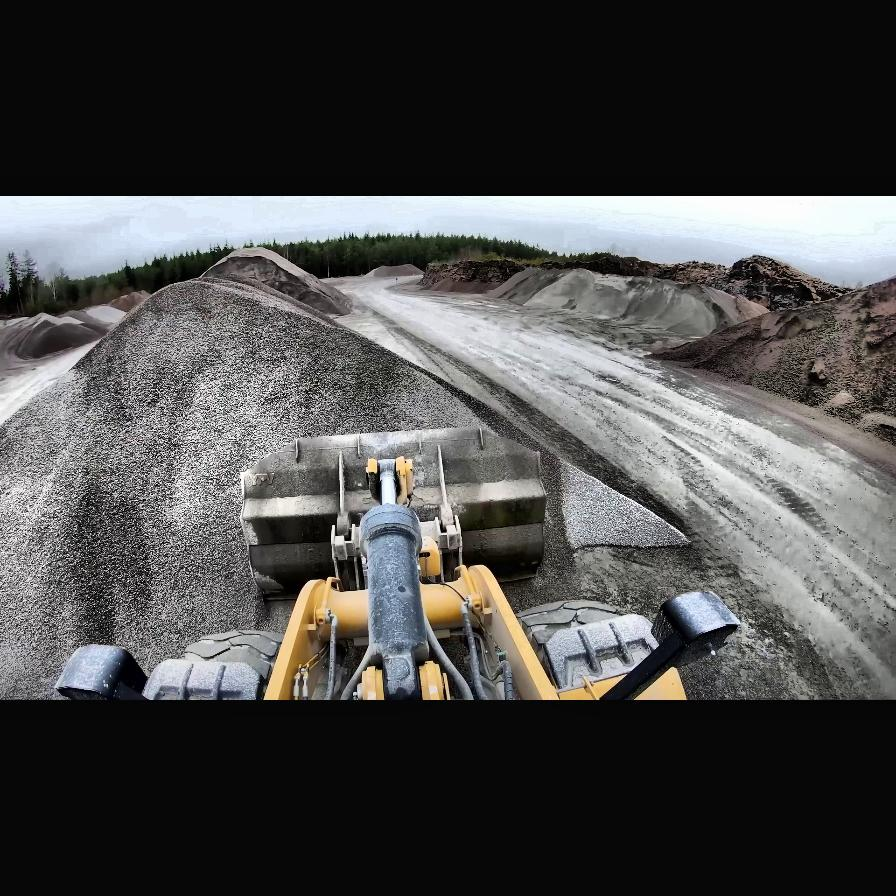anchor: (366, 456, 414, 506)
pile of gravel: (0, 278, 694, 550), (642, 274, 896, 450), (463, 265, 714, 343), (1, 292, 146, 376), (198, 246, 352, 318), (518, 268, 621, 316), (366, 264, 424, 278)
